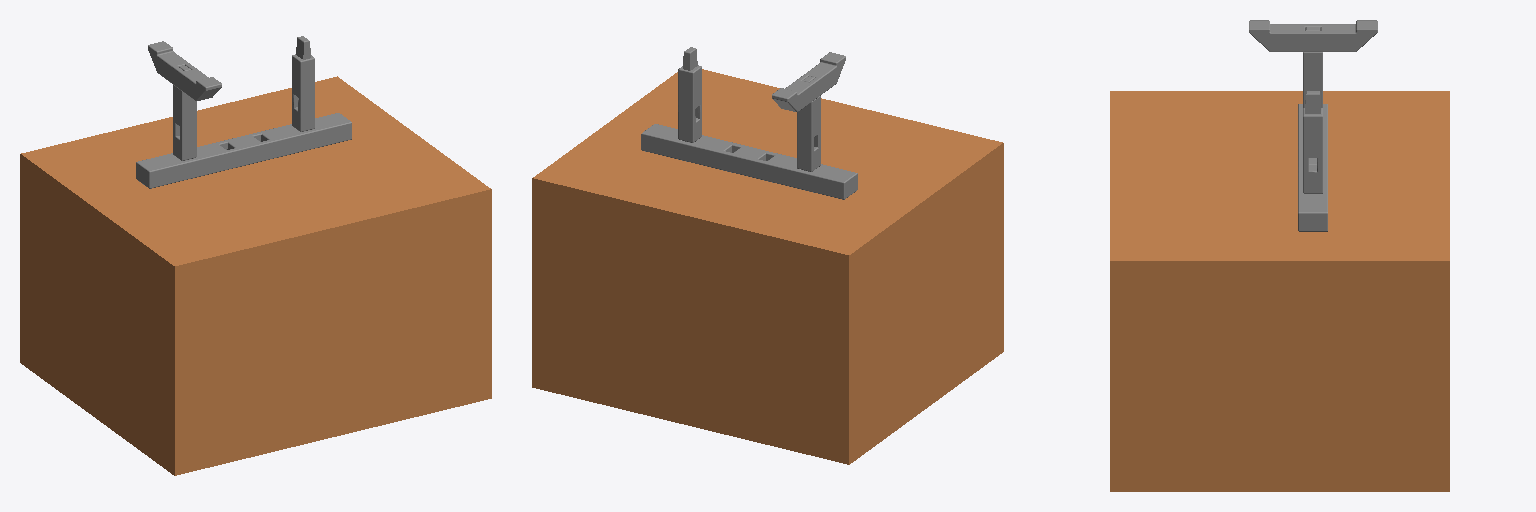
The robot description file, URDF, robot "table_beam_2x_1_scene_0095":
<?xml version="1.0"?>
<robot name="table_beam_2x_1_scene_0095">
  <link name="box">
    <visual>
      <material name="wood"><color rgba="0.82 0.56 0.35 1.0"/></material>
      <origin xyz="0 0 0"/>
      <geometry><box size="0.475 0.4 0.3"/></geometry>
    </visual>
    <collision>
      <origin xyz="0 0 0"/>
      <geometry><box size="0.475 0.4 0.3"/></geometry>
    </collision>
    <inertial>
      <mass value="500"/>
      <friction value="1.0"/>
      <inertia ixx="1000.0" ixy="0.0" ixz="0.0" iyy="1000.0" iyz="0.0" izz="1000.0"/>
    </inertial>
  </link>
  <link name="part_6_canonical">
    <visual>
      <origin xyz="0 0 0" rpy="0 0 0"/>
      <geometry><mesh filename="../../6/6_canonical.obj" scale="1 1 1"/></geometry>
      <material name="placed_0"><color rgba="0.6 0.6 0.6 1.0"/></material>
    </visual>
    <collision>
      <origin xyz="0 0 0" rpy="0 0 0"/>
      <geometry><mesh filename="../../6/6_canonical.obj" scale="1 1 1"/></geometry>
    </collision>
  </link>
  <joint name="part_6_canonical_joint" type="fixed">
    <parent link="box"/>
    <child link="part_6_canonical"/>
    <origin xyz="0.004993 0.039155 0.162666" rpy="0.000000 0.000000 0.000000"/>
  </joint>
  <link name="part_2_canonical">
    <visual>
      <origin xyz="0 0 0" rpy="0 0 0"/>
      <geometry><mesh filename="../../2/2_canonical.obj" scale="1 1 1"/></geometry>
      <material name="placed_1"><color rgba="0.6 0.6 0.6 1.0"/></material>
    </visual>
    <collision>
      <origin xyz="0 0 0" rpy="0 0 0"/>
      <geometry><mesh filename="../../2/2_canonical.obj" scale="1 1 1"/></geometry>
    </collision>
  </link>
  <joint name="part_2_canonical_joint" type="fixed">
    <parent link="box"/>
    <child link="part_2_canonical"/>
    <origin xyz="-0.083934 0.039155 0.225384" rpy="0.000000 -1.570796 0.000000"/>
  </joint>
  <link name="part_0_canonical">
    <visual>
      <origin xyz="0 0 0" rpy="0 0 0"/>
      <geometry><mesh filename="../../0/0_canonical.obj" scale="1 1 1"/></geometry>
      <material name="placed_2"><color rgba="0.6 0.6 0.6 1.0"/></material>
    </visual>
    <collision>
      <origin xyz="0 0 0" rpy="0 0 0"/>
      <geometry><mesh filename="../../0/0_canonical.obj" scale="1 1 1"/></geometry>
    </collision>
  </link>
  <joint name="part_0_canonical_joint" type="fixed">
    <parent link="box"/>
    <child link="part_0_canonical"/>
    <origin xyz="-0.083907 0.039155 0.292243" rpy="1.570796 0.000000 -1.570796"/>
  </joint>
  <link name="part_3_hull_0">
    <visual>
      <origin xyz="0 0 0" rpy="0 0 0"/>
      <geometry><mesh filename="../../3/coacd/decomp_0.obj" scale="1 1 1"/></geometry>
      <material name="placed_3"><color rgba="0.6 0.6 0.6 1.0"/></material>
    </visual>
    <collision>
      <origin xyz="0 0 0" rpy="0 0 0"/>
      <geometry><mesh filename="../../3/coacd/decomp_0.obj" scale="1 1 1"/></geometry>
    </collision>
  </link>
  <joint name="part_3_hull_0_joint" type="fixed">
    <parent link="box"/>
    <child link="part_3_hull_0"/>
    <origin xyz="0.093920 0.039155 0.225384" rpy="0.000000 -1.570796 0.000000"/>
  </joint>
  <link name="part_3_hull_1">
    <visual>
      <origin xyz="0 0 0" rpy="0 0 0"/>
      <geometry><mesh filename="../../3/coacd/decomp_1.obj" scale="1 1 1"/></geometry>
      <material name="placed_4"><color rgba="0.6 0.6 0.6 1.0"/></material>
    </visual>
    <collision>
      <origin xyz="0 0 0" rpy="0 0 0"/>
      <geometry><mesh filename="../../3/coacd/decomp_1.obj" scale="1 1 1"/></geometry>
    </collision>
  </link>
  <joint name="part_3_hull_1_joint" type="fixed">
    <parent link="box"/>
    <child link="part_3_hull_1"/>
    <origin xyz="0.093920 0.039155 0.225384" rpy="0.000000 -1.570796 0.000000"/>
  </joint>
  <link name="part_3_hull_2">
    <visual>
      <origin xyz="0 0 0" rpy="0 0 0"/>
      <geometry><mesh filename="../../3/coacd/decomp_10.obj" scale="1 1 1"/></geometry>
      <material name="placed_5"><color rgba="0.6 0.6 0.6 1.0"/></material>
    </visual>
    <collision>
      <origin xyz="0 0 0" rpy="0 0 0"/>
      <geometry><mesh filename="../../3/coacd/decomp_10.obj" scale="1 1 1"/></geometry>
    </collision>
  </link>
  <joint name="part_3_hull_2_joint" type="fixed">
    <parent link="box"/>
    <child link="part_3_hull_2"/>
    <origin xyz="0.093920 0.039155 0.225384" rpy="0.000000 -1.570796 0.000000"/>
  </joint>
  <link name="part_3_hull_3">
    <visual>
      <origin xyz="0 0 0" rpy="0 0 0"/>
      <geometry><mesh filename="../../3/coacd/decomp_11.obj" scale="1 1 1"/></geometry>
      <material name="placed_6"><color rgba="0.6 0.6 0.6 1.0"/></material>
    </visual>
    <collision>
      <origin xyz="0 0 0" rpy="0 0 0"/>
      <geometry><mesh filename="../../3/coacd/decomp_11.obj" scale="1 1 1"/></geometry>
    </collision>
  </link>
  <joint name="part_3_hull_3_joint" type="fixed">
    <parent link="box"/>
    <child link="part_3_hull_3"/>
    <origin xyz="0.093920 0.039155 0.225384" rpy="0.000000 -1.570796 0.000000"/>
  </joint>
  <link name="part_3_hull_4">
    <visual>
      <origin xyz="0 0 0" rpy="0 0 0"/>
      <geometry><mesh filename="../../3/coacd/decomp_12.obj" scale="1 1 1"/></geometry>
      <material name="placed_7"><color rgba="0.6 0.6 0.6 1.0"/></material>
    </visual>
    <collision>
      <origin xyz="0 0 0" rpy="0 0 0"/>
      <geometry><mesh filename="../../3/coacd/decomp_12.obj" scale="1 1 1"/></geometry>
    </collision>
  </link>
  <joint name="part_3_hull_4_joint" type="fixed">
    <parent link="box"/>
    <child link="part_3_hull_4"/>
    <origin xyz="0.093920 0.039155 0.225384" rpy="0.000000 -1.570796 0.000000"/>
  </joint>
  <link name="part_3_hull_5">
    <visual>
      <origin xyz="0 0 0" rpy="0 0 0"/>
      <geometry><mesh filename="../../3/coacd/decomp_2.obj" scale="1 1 1"/></geometry>
      <material name="placed_8"><color rgba="0.6 0.6 0.6 1.0"/></material>
    </visual>
    <collision>
      <origin xyz="0 0 0" rpy="0 0 0"/>
      <geometry><mesh filename="../../3/coacd/decomp_2.obj" scale="1 1 1"/></geometry>
    </collision>
  </link>
  <joint name="part_3_hull_5_joint" type="fixed">
    <parent link="box"/>
    <child link="part_3_hull_5"/>
    <origin xyz="0.093920 0.039155 0.225384" rpy="0.000000 -1.570796 0.000000"/>
  </joint>
  <link name="part_3_hull_6">
    <visual>
      <origin xyz="0 0 0" rpy="0 0 0"/>
      <geometry><mesh filename="../../3/coacd/decomp_3.obj" scale="1 1 1"/></geometry>
      <material name="placed_9"><color rgba="0.6 0.6 0.6 1.0"/></material>
    </visual>
    <collision>
      <origin xyz="0 0 0" rpy="0 0 0"/>
      <geometry><mesh filename="../../3/coacd/decomp_3.obj" scale="1 1 1"/></geometry>
    </collision>
  </link>
  <joint name="part_3_hull_6_joint" type="fixed">
    <parent link="box"/>
    <child link="part_3_hull_6"/>
    <origin xyz="0.093920 0.039155 0.225384" rpy="0.000000 -1.570796 0.000000"/>
  </joint>
  <link name="part_3_hull_7">
    <visual>
      <origin xyz="0 0 0" rpy="0 0 0"/>
      <geometry><mesh filename="../../3/coacd/decomp_4.obj" scale="1 1 1"/></geometry>
      <material name="placed_10"><color rgba="0.6 0.6 0.6 1.0"/></material>
    </visual>
    <collision>
      <origin xyz="0 0 0" rpy="0 0 0"/>
      <geometry><mesh filename="../../3/coacd/decomp_4.obj" scale="1 1 1"/></geometry>
    </collision>
  </link>
  <joint name="part_3_hull_7_joint" type="fixed">
    <parent link="box"/>
    <child link="part_3_hull_7"/>
    <origin xyz="0.093920 0.039155 0.225384" rpy="0.000000 -1.570796 0.000000"/>
  </joint>
  <link name="part_3_hull_8">
    <visual>
      <origin xyz="0 0 0" rpy="0 0 0"/>
      <geometry><mesh filename="../../3/coacd/decomp_5.obj" scale="1 1 1"/></geometry>
      <material name="placed_11"><color rgba="0.6 0.6 0.6 1.0"/></material>
    </visual>
    <collision>
      <origin xyz="0 0 0" rpy="0 0 0"/>
      <geometry><mesh filename="../../3/coacd/decomp_5.obj" scale="1 1 1"/></geometry>
    </collision>
  </link>
  <joint name="part_3_hull_8_joint" type="fixed">
    <parent link="box"/>
    <child link="part_3_hull_8"/>
    <origin xyz="0.093920 0.039155 0.225384" rpy="0.000000 -1.570796 0.000000"/>
  </joint>
  <link name="part_3_hull_9">
    <visual>
      <origin xyz="0 0 0" rpy="0 0 0"/>
      <geometry><mesh filename="../../3/coacd/decomp_6.obj" scale="1 1 1"/></geometry>
      <material name="placed_12"><color rgba="0.6 0.6 0.6 1.0"/></material>
    </visual>
    <collision>
      <origin xyz="0 0 0" rpy="0 0 0"/>
      <geometry><mesh filename="../../3/coacd/decomp_6.obj" scale="1 1 1"/></geometry>
    </collision>
  </link>
  <joint name="part_3_hull_9_joint" type="fixed">
    <parent link="box"/>
    <child link="part_3_hull_9"/>
    <origin xyz="0.093920 0.039155 0.225384" rpy="0.000000 -1.570796 0.000000"/>
  </joint>
  <link name="part_3_hull_10">
    <visual>
      <origin xyz="0 0 0" rpy="0 0 0"/>
      <geometry><mesh filename="../../3/coacd/decomp_7.obj" scale="1 1 1"/></geometry>
      <material name="placed_13"><color rgba="0.6 0.6 0.6 1.0"/></material>
    </visual>
    <collision>
      <origin xyz="0 0 0" rpy="0 0 0"/>
      <geometry><mesh filename="../../3/coacd/decomp_7.obj" scale="1 1 1"/></geometry>
    </collision>
  </link>
  <joint name="part_3_hull_10_joint" type="fixed">
    <parent link="box"/>
    <child link="part_3_hull_10"/>
    <origin xyz="0.093920 0.039155 0.225384" rpy="0.000000 -1.570796 0.000000"/>
  </joint>
  <link name="part_3_hull_11">
    <visual>
      <origin xyz="0 0 0" rpy="0 0 0"/>
      <geometry><mesh filename="../../3/coacd/decomp_8.obj" scale="1 1 1"/></geometry>
      <material name="placed_14"><color rgba="0.6 0.6 0.6 1.0"/></material>
    </visual>
    <collision>
      <origin xyz="0 0 0" rpy="0 0 0"/>
      <geometry><mesh filename="../../3/coacd/decomp_8.obj" scale="1 1 1"/></geometry>
    </collision>
  </link>
  <joint name="part_3_hull_11_joint" type="fixed">
    <parent link="box"/>
    <child link="part_3_hull_11"/>
    <origin xyz="0.093920 0.039155 0.225384" rpy="0.000000 -1.570796 0.000000"/>
  </joint>
  <link name="part_3_hull_12">
    <visual>
      <origin xyz="0 0 0" rpy="0 0 0"/>
      <geometry><mesh filename="../../3/coacd/decomp_9.obj" scale="1 1 1"/></geometry>
      <material name="placed_15"><color rgba="0.6 0.6 0.6 1.0"/></material>
    </visual>
    <collision>
      <origin xyz="0 0 0" rpy="0 0 0"/>
      <geometry><mesh filename="../../3/coacd/decomp_9.obj" scale="1 1 1"/></geometry>
    </collision>
  </link>
  <joint name="part_3_hull_12_joint" type="fixed">
    <parent link="box"/>
    <child link="part_3_hull_12"/>
    <origin xyz="0.093920 0.039155 0.225384" rpy="0.000000 -1.570796 0.000000"/>
  </joint>
</robot>

--- Render facts (derived) ---
3 views of the same robot in one strip: view 1: azimuth 30°, elevation 25°; view 2: azimuth 150°, elevation 25°; view 3: azimuth 270°, elevation 25° (orthographic).
Robot: table_beam_2x_1_scene_0095 — 17 links, 16 joints (16 fixed); root link box; default pose: every joint at zero.
Links seen in each view (by area): view 1: box, part_6_canonical, part_0_canonical, part_2_canonical, part_3_hull_7; view 2: box, part_6_canonical, part_0_canonical, part_2_canonical; view 3: box, part_0_canonical, part_6_canonical, part_2_canonical, part_3_hull_0.
Link boxes in pixels (bbox=[...]): box: bbox=[20, 76, 491, 475]; part_6_canonical: bbox=[136, 113, 351, 188]; part_0_canonical: bbox=[148, 41, 221, 100]; part_2_canonical: bbox=[173, 65, 196, 160]; part_3_hull_7: bbox=[304, 58, 311, 130]; box: bbox=[532, 69, 1003, 464]; part_6_canonical: bbox=[641, 124, 857, 199]; part_0_canonical: bbox=[772, 52, 845, 111]; part_2_canonical: bbox=[797, 76, 820, 171]; box: bbox=[1110, 91, 1449, 491]; part_0_canonical: bbox=[1249, 20, 1377, 51]; part_6_canonical: bbox=[1298, 104, 1327, 231]; part_2_canonical: bbox=[1303, 27, 1322, 107]; part_3_hull_0: bbox=[1303, 114, 1322, 157].
Bounding box of the posed robot: 0.475 × 0.4 × 0.4575 m (x, y, z).
16 mesh visuals loaded from 16 distinct referenced files (16 OBJ).
